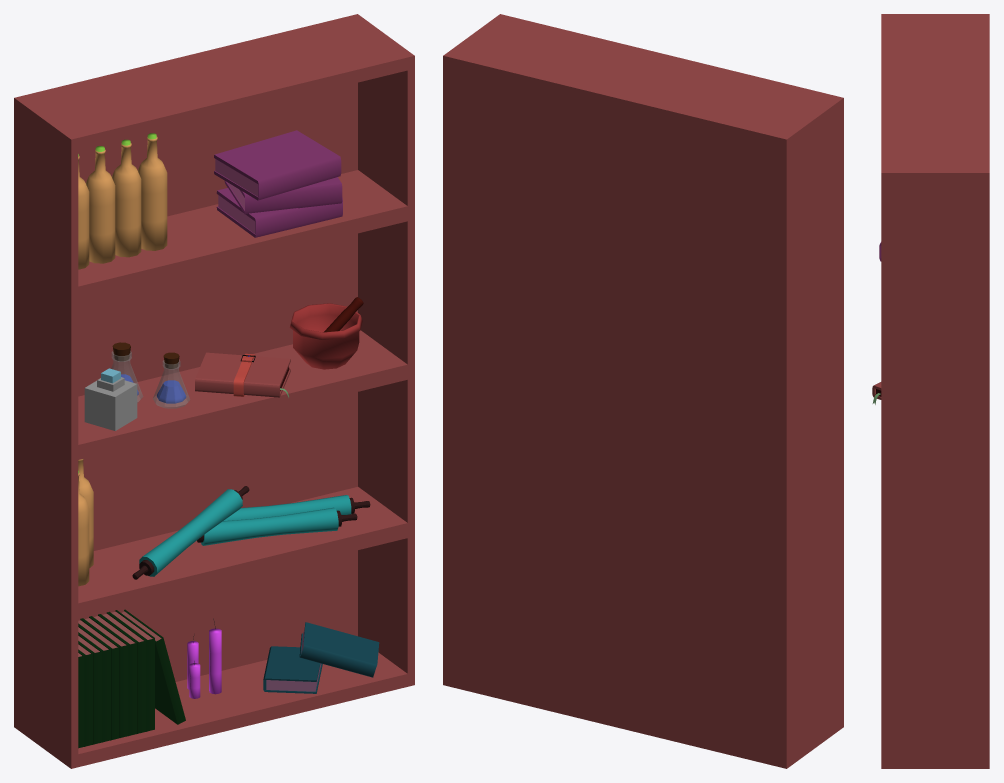
File: Estanteria.FBX
The picture shows the model from 3 angles, left to right: view 1: azimuth 30°, elevation 25°; view 2: azimuth 150°, elevation 25°; view 3: azimuth 270°, elevation 25°; orthographic projection. The views are drawn at different scales.
Parts seen in each view (by area): view 1: Estanteria, LibrosFinos, Botellas, LibrosSuperiores, Pergamino, LibroGrande, Mortero, LibroHechizos, PocionCuadrada, PocionRedonda, Velas; view 2: Estanteria; view 3: Estanteria.
Boxes of the visible parts, x1,y1,x2,y2 form: Estanteria: (14, 14, 414, 768); LibrosFinos: (78, 609, 185, 748); Botellas: (78, 133, 167, 586); LibrosSuperiores: (214, 130, 342, 237); Pergamino: (132, 486, 370, 579); LibroGrande: (263, 622, 379, 693); Mortero: (289, 297, 363, 369); LibroHechizos: (195, 352, 290, 397); PocionCuadrada: (84, 368, 137, 430); PocionRedonda: (111, 342, 189, 408); Velas: (187, 618, 221, 698); Estanteria: (443, 14, 843, 768); Estanteria: (881, 14, 989, 768).
Size of the model in its own units: 80 by 140 by 24.91.
